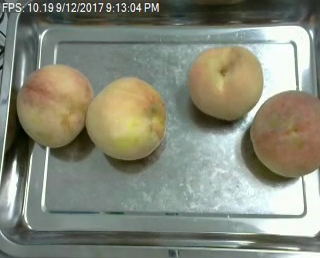Peach: (86, 75, 167, 160), (15, 63, 92, 147), (250, 89, 320, 178), (188, 44, 263, 121)
